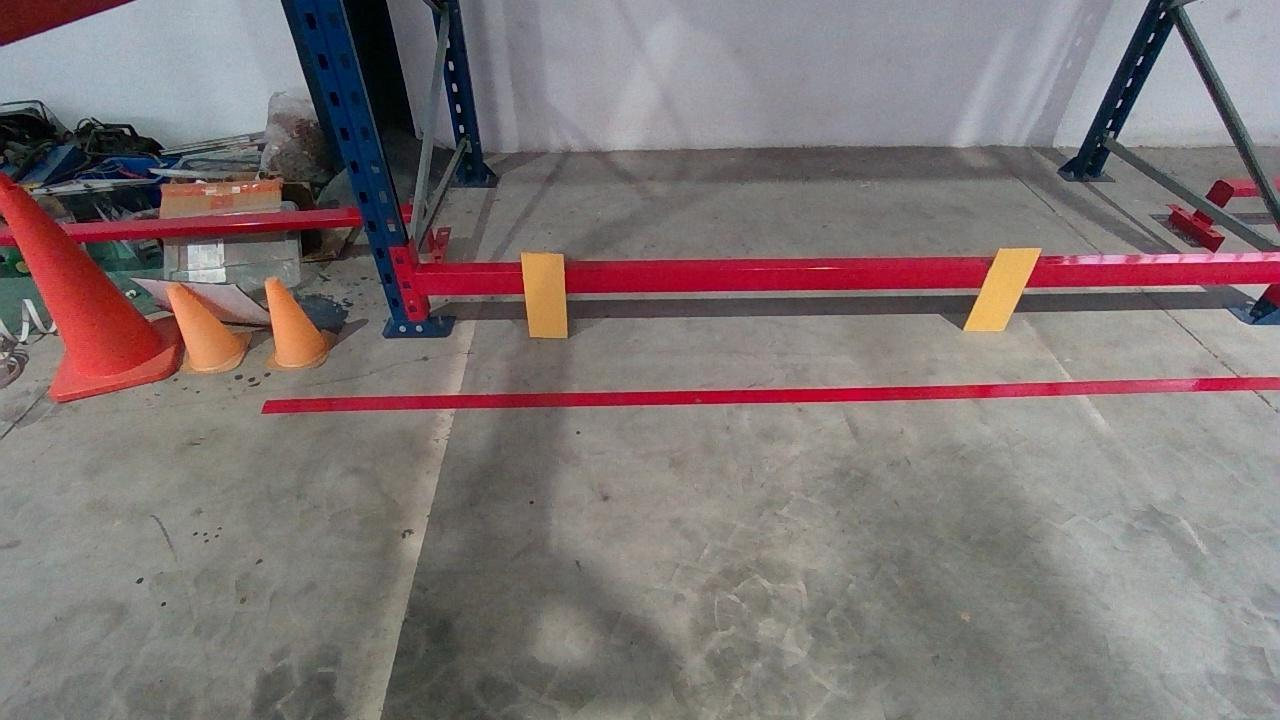h_rack: (415, 263, 1279, 294)
orange_strip: (965, 247, 1044, 333), (520, 251, 567, 335)
red_line: (260, 377, 1277, 409)
